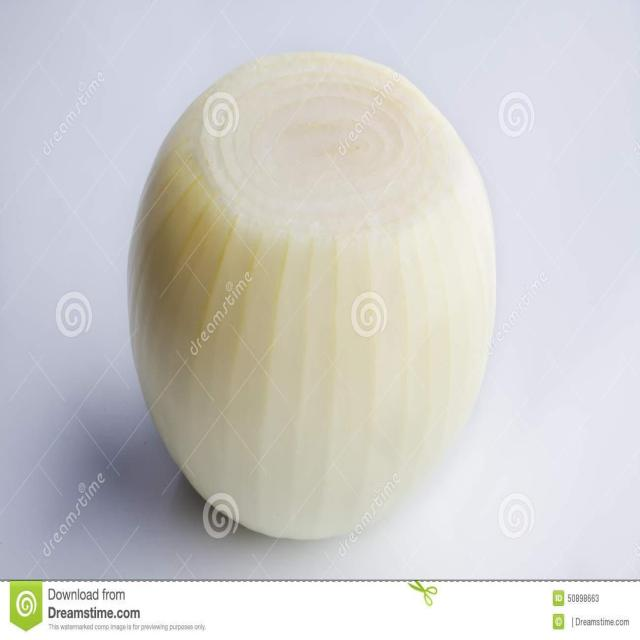Onion: (124, 48, 497, 537)
